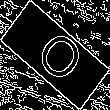O_SW: (25, 22, 85, 88)
